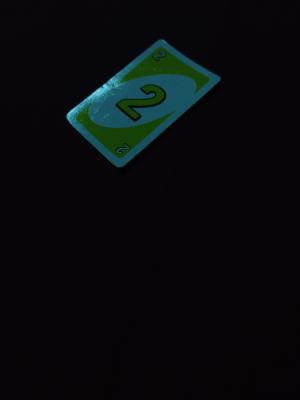num_2: (117, 80, 169, 124), (110, 132, 134, 161)
yellow: (148, 48, 174, 72)
